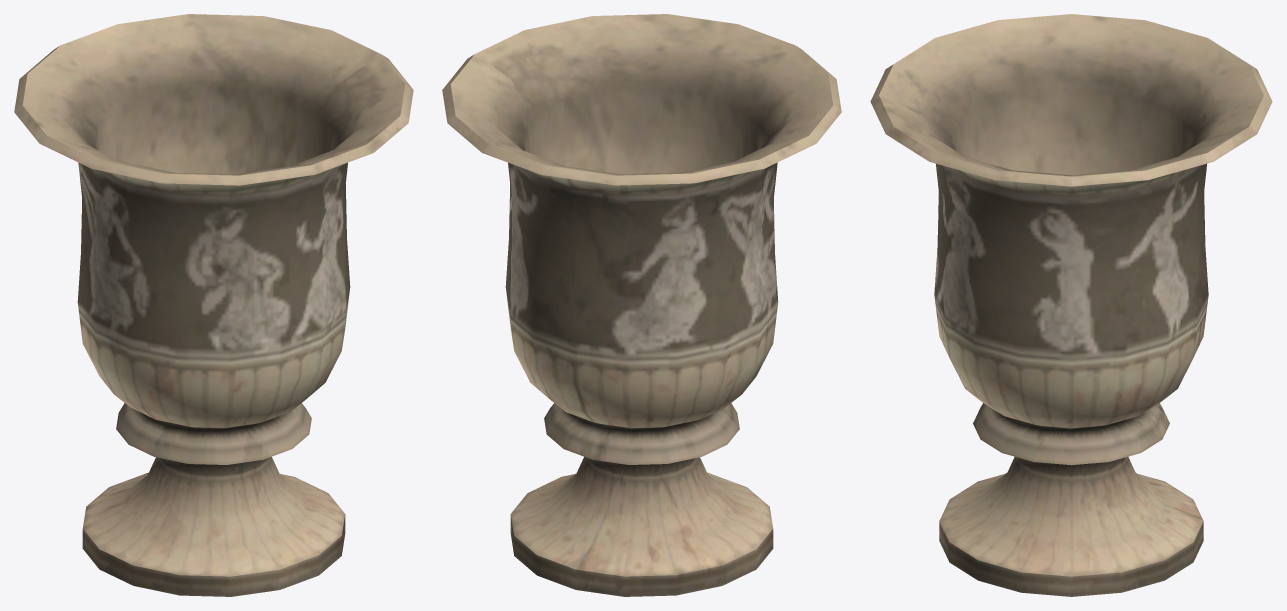
File: Vase_B.fbx
The picture shows the model from 3 angles, left to right: view 1: azimuth 30°, elevation 25°; view 2: azimuth 150°, elevation 25°; view 3: azimuth 270°, elevation 25°; orthographic projection.
Visible parts, largest first — view 1: Vase_B; view 2: Vase_B; view 3: Vase_B.
Boxes of the visible parts, <box> form: Vase_B: <box>14,14,413,596</box>; Vase_B: <box>442,14,841,596</box>; Vase_B: <box>870,14,1272,596</box>.
Bounding box in the file's own units: 0.6547 × 0.8008 × 0.6547.
